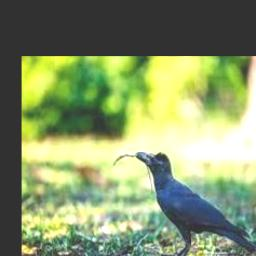Crow: (136, 152, 256, 256)
